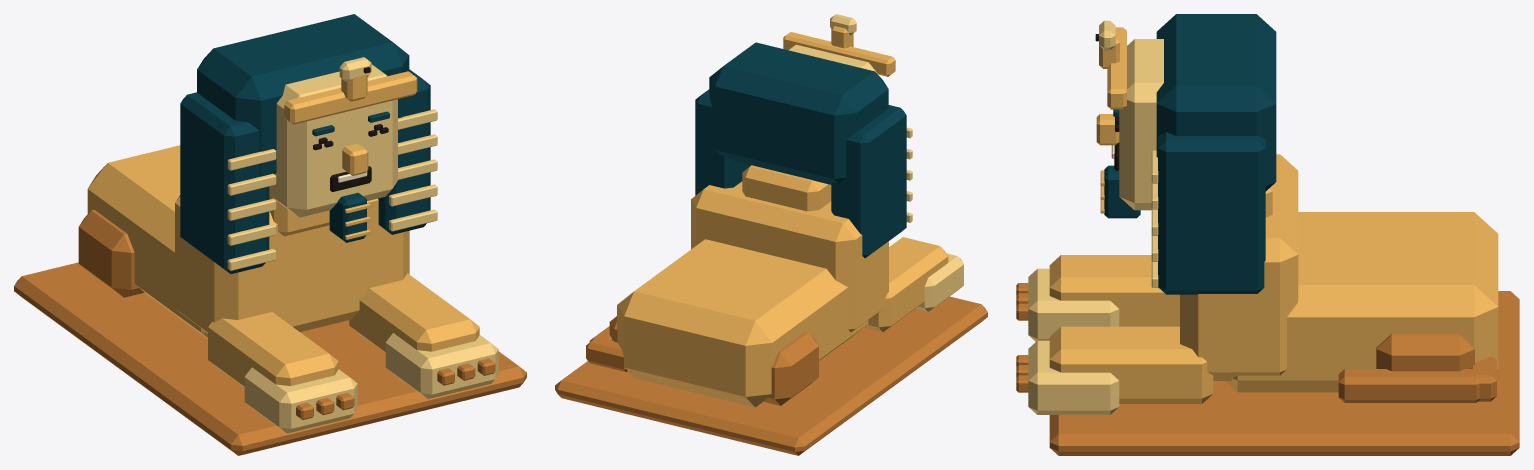
File: esfinge-blockie-feliz.glb
3 views of the same model, side by side, from view 1: azimuth 30°, elevation 25°; view 2: azimuth 150°, elevation 25°; view 3: azimuth 270°, elevation 25° (orthographic). The views are drawn at different scales.
Visible parts, largest first — view 1: esfinge-blockie-feliz; view 2: esfinge-blockie-feliz; view 3: esfinge-blockie-feliz.
Boxes of the visible parts, x1=… form: esfinge-blockie-feliz: x1=14, y1=14, x2=526, y2=455; esfinge-blockie-feliz: x1=555, y1=14, x2=987, y2=455; esfinge-blockie-feliz: x1=1016, y1=14, x2=1519, y2=455.
Bounding box in the file's own units: 2.35 × 2.61 × 3.32.
Materials: 1 (1 with a texture image).
